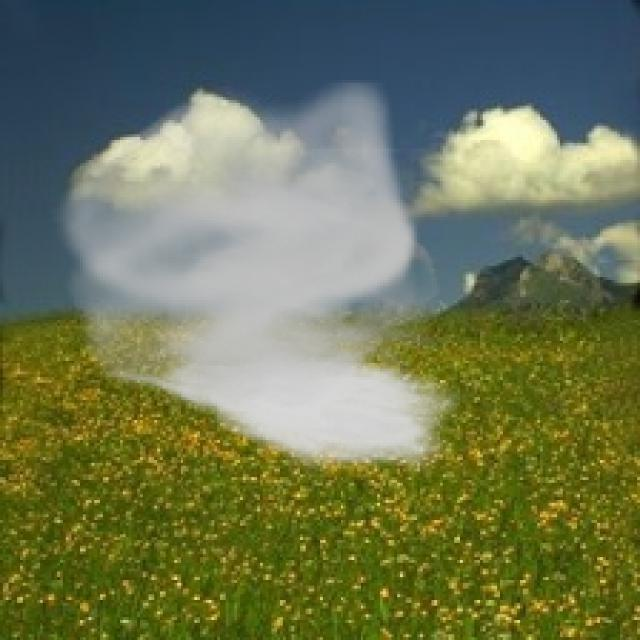smoke: (48, 80, 466, 474)
